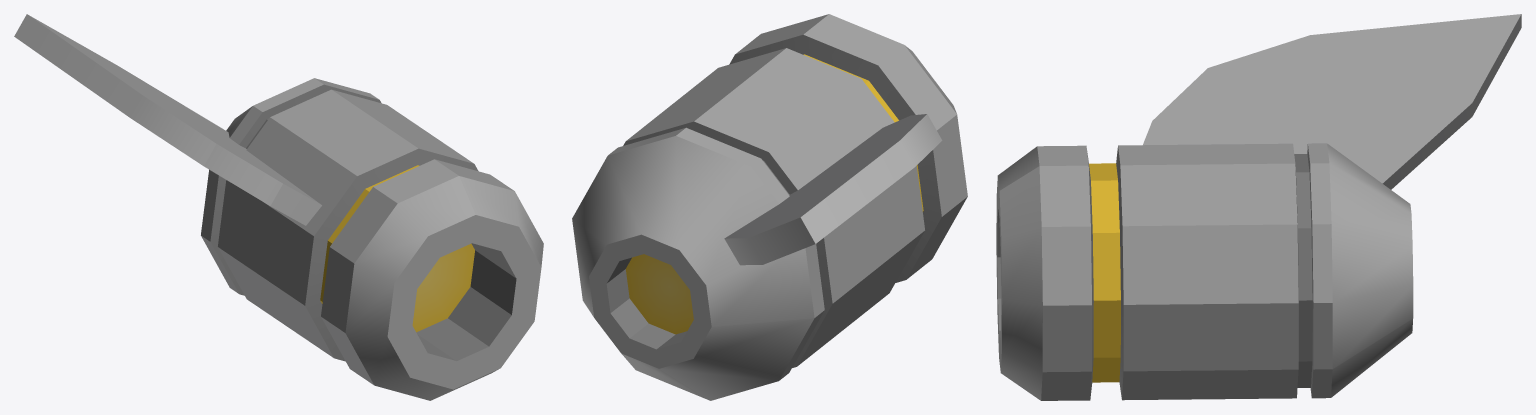
The model's file is herbertMiniBaseRocketA.glb.
The picture shows the model from 3 angles, left to right: view 1: azimuth 30°, elevation 25°; view 2: azimuth 150°, elevation 25°; view 3: azimuth 270°, elevation 25°; orthographic projection. The views are drawn at different scales.
Parts seen in each view (by area): view 1: herbertMiniBaseRocketA; view 2: herbertMiniBaseRocketA; view 3: herbertMiniBaseRocketA.
Boxes of the visible parts, box(x1,y1,x2,y2) form: herbertMiniBaseRocketA: box(14, 14, 543, 400); herbertMiniBaseRocketA: box(572, 14, 967, 400); herbertMiniBaseRocketA: box(996, 14, 1521, 400).
Size of the model in its own units: 0.8457 by 0.7017 by 1.2.
